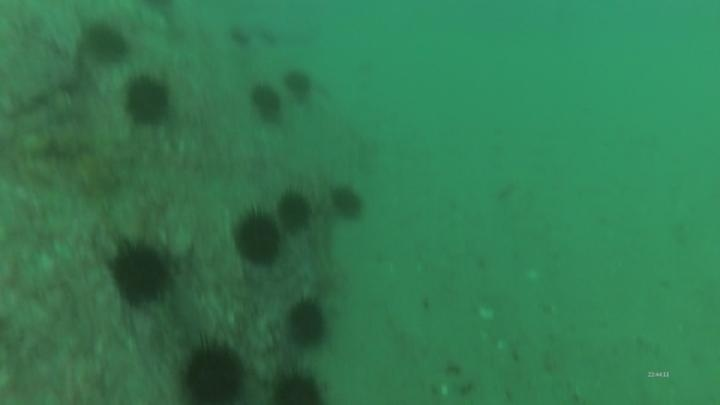echinus: (106, 237, 177, 308), (177, 336, 250, 405), (230, 206, 284, 269), (122, 73, 174, 129), (284, 296, 331, 351), (269, 366, 328, 404), (82, 21, 131, 65), (275, 188, 314, 234), (247, 82, 285, 125), (328, 183, 367, 224), (281, 67, 316, 103), (226, 24, 254, 51)
